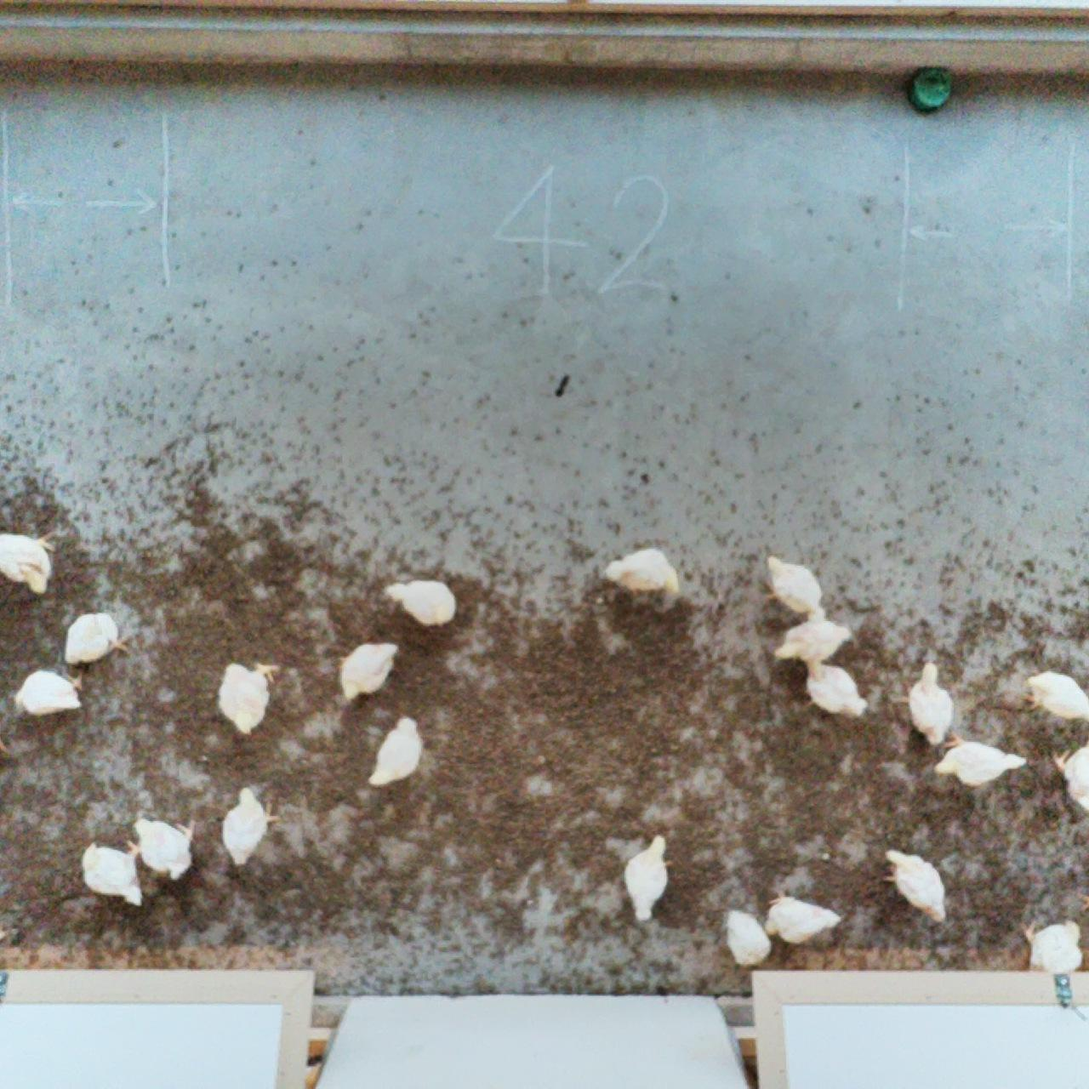chicken: (930, 731, 1031, 790), (881, 847, 950, 925), (215, 660, 284, 737), (899, 660, 957, 750), (763, 886, 844, 949), (220, 785, 281, 867), (622, 831, 674, 923), (762, 553, 829, 624), (601, 542, 682, 599), (365, 714, 426, 789), (79, 839, 145, 908), (798, 661, 872, 720), (131, 815, 196, 882), (381, 576, 459, 629), (0, 526, 57, 598), (772, 616, 854, 666), (1019, 667, 1089, 724), (338, 641, 401, 704), (1018, 916, 1086, 973), (63, 610, 132, 666), (13, 667, 84, 718), (724, 907, 774, 969), (1050, 735, 1089, 812)
